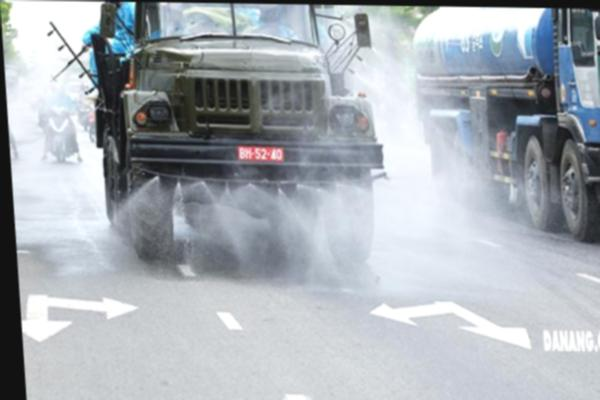License_Plate: (237, 145, 286, 164)
